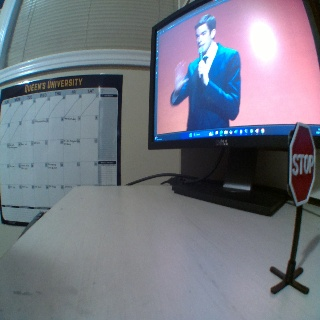sign_stop: (288, 123, 314, 204)
